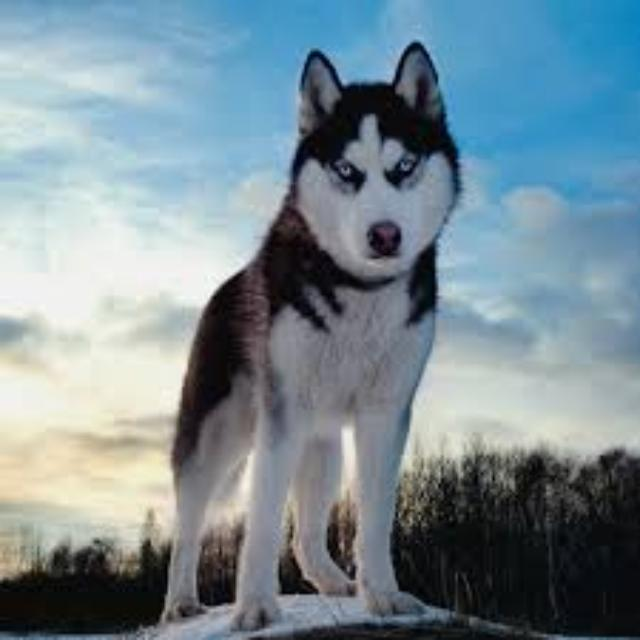dog: (128, 28, 520, 640)
